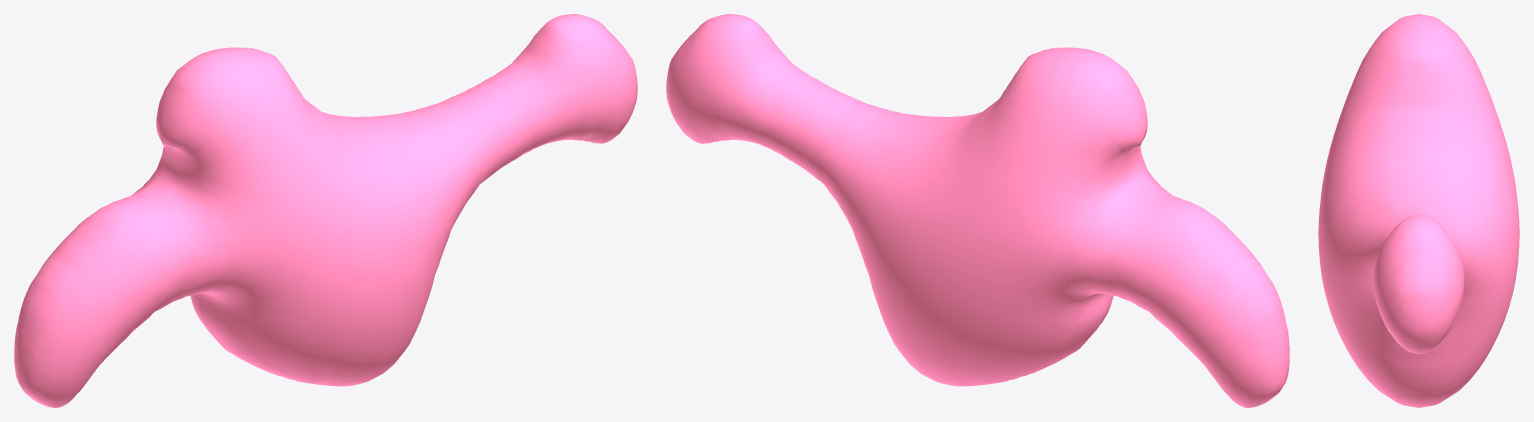
File: mm_project.glb
The picture shows the model from 3 angles, left to right: view 1: azimuth 30°, elevation 25°; view 2: azimuth 150°, elevation 25°; view 3: azimuth 270°, elevation 25°; orthographic projection. The views are drawn at different scales.
Parts seen in each view (by area): view 1: 72e8e5c7-2f8b-4265-857b-9b108420a969; view 2: 72e8e5c7-2f8b-4265-857b-9b108420a969; view 3: 72e8e5c7-2f8b-4265-857b-9b108420a969.
Boxes of the visible parts, x1,y1,x2,y2 form: 72e8e5c7-2f8b-4265-857b-9b108420a969: (14, 14, 637, 407); 72e8e5c7-2f8b-4265-857b-9b108420a969: (666, 14, 1289, 407); 72e8e5c7-2f8b-4265-857b-9b108420a969: (1318, 14, 1519, 407).
Bounding box in the file's own units: 5.62 × 3.12 × 1.74.
